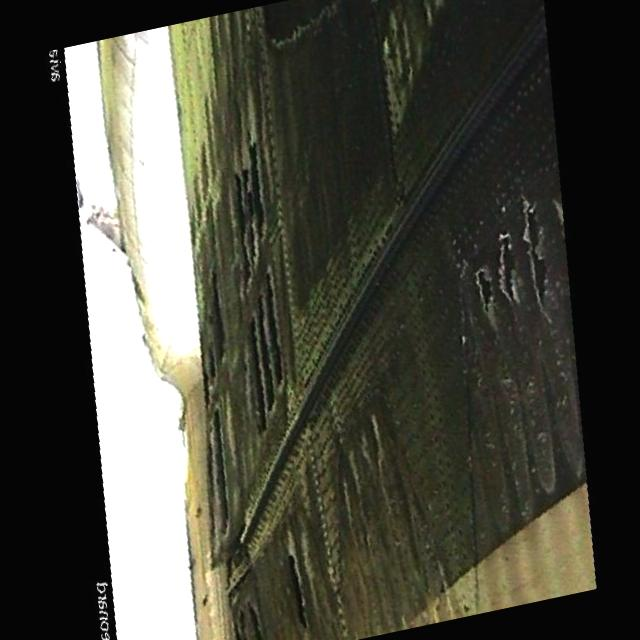crack: (454, 187, 576, 336)
